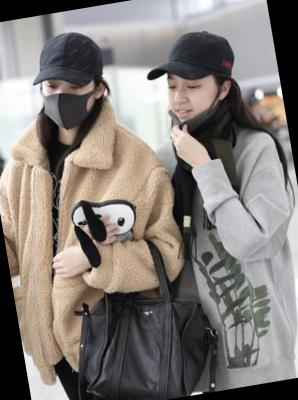mask_weared_incorrect: (164, 64, 227, 129)
with_mask: (39, 74, 102, 133)
